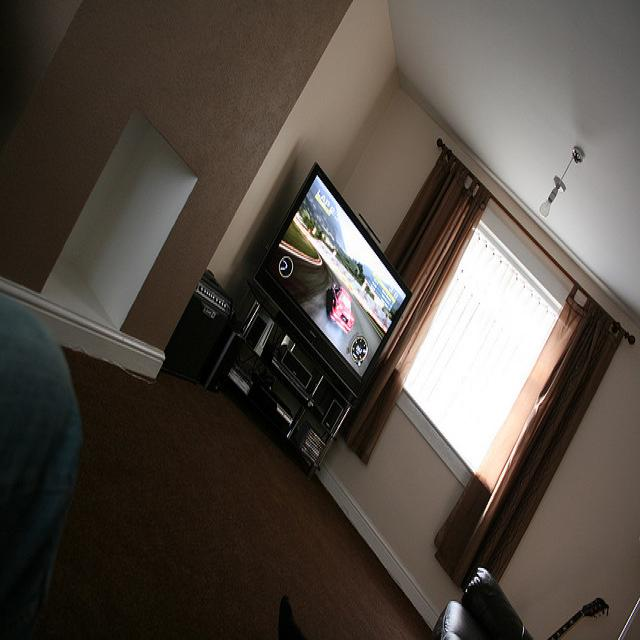Vehicle: (328, 285, 353, 334)
